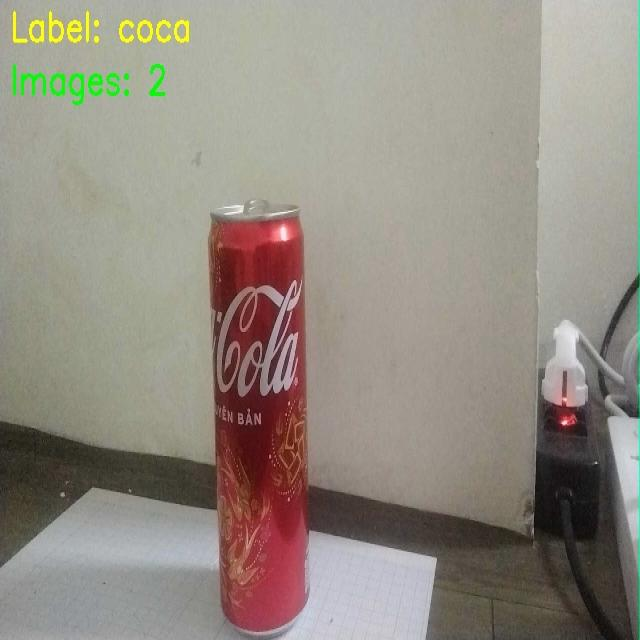Coca: (160, 180, 356, 640)
